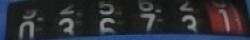digits: (203, 0, 247, 32), (58, 2, 78, 38), (137, 0, 157, 36), (178, 0, 199, 34), (18, 7, 40, 39), (98, 0, 115, 36)
